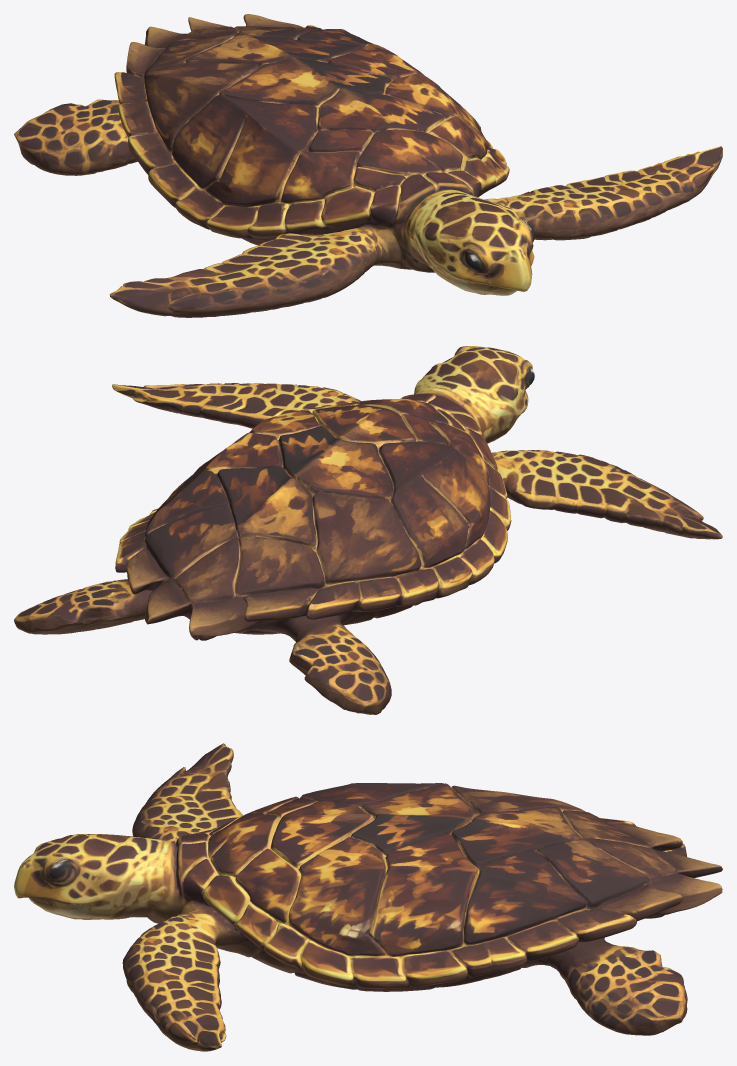
File: carey.glb
3 views of the same model, one above another, from view 1: azimuth 30°, elevation 25°; view 2: azimuth 150°, elevation 25°; view 3: azimuth 270°, elevation 25° (orthographic).
Visible parts, largest first — view 1: tripo_node_97394860-828c-4c5f-9d5e-07e5ed01ad55; view 2: tripo_node_97394860-828c-4c5f-9d5e-07e5ed01ad55; view 3: tripo_node_97394860-828c-4c5f-9d5e-07e5ed01ad55.
Part boxes in pixels (x1,y1,x2,y2): tripo_node_97394860-828c-4c5f-9d5e-07e5ed01ad55: [14, 14, 722, 317]; tripo_node_97394860-828c-4c5f-9d5e-07e5ed01ad55: [14, 346, 722, 714]; tripo_node_97394860-828c-4c5f-9d5e-07e5ed01ad55: [14, 743, 722, 1051].
Bounding box in the file's own units: 1 × 0.2156 × 0.9929.
1 material, 1 textured.
